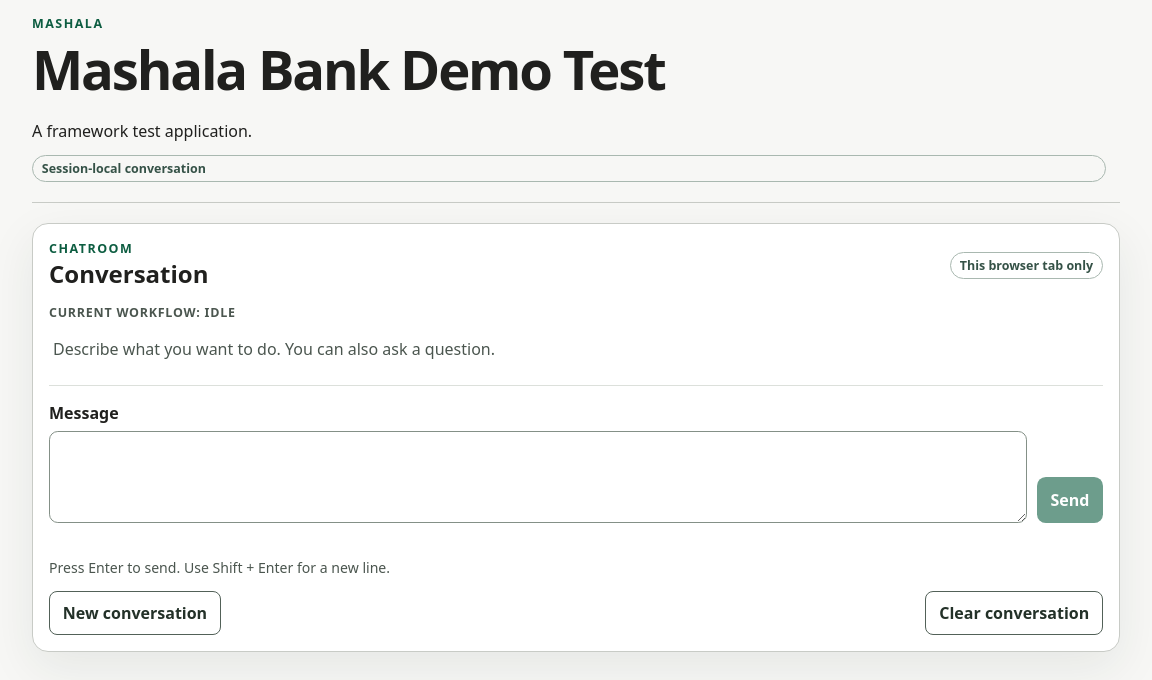
Test: MashalaChat page capability workflow › cancels review without authorizing a write
In the text box labelled "Message": x=538, y=477 [49,431,1026,523], type "transfer to Sam"
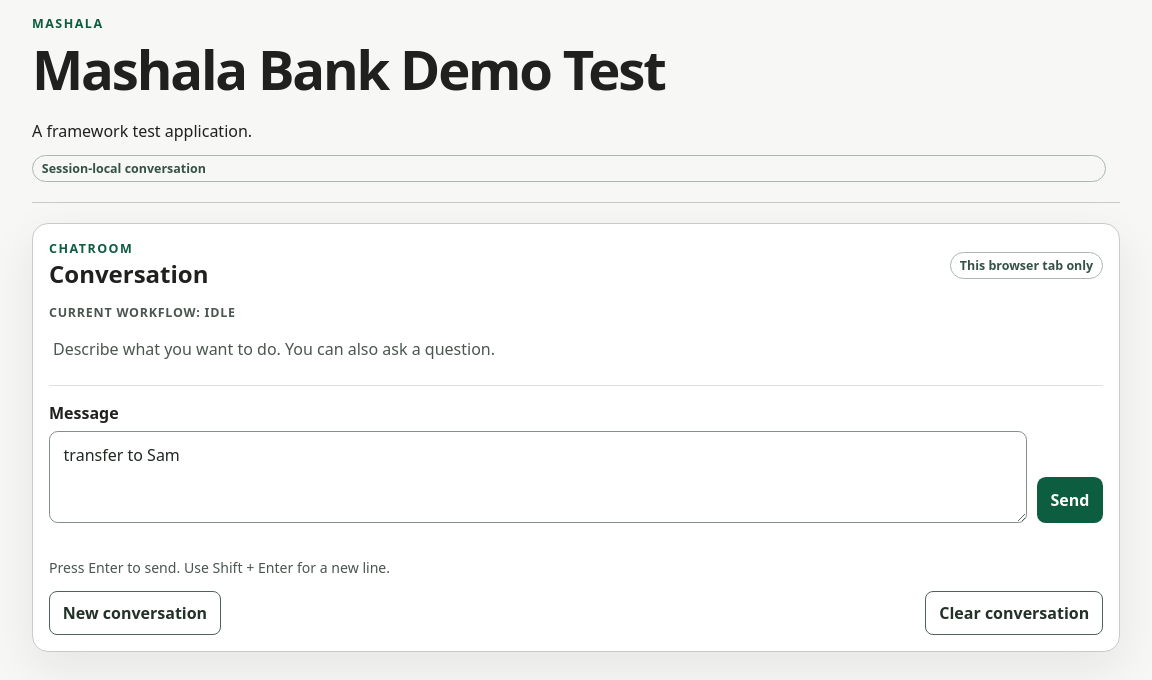
Click the button "Send": x=1070, y=500 [1037,477,1103,523]
(page scrolled)
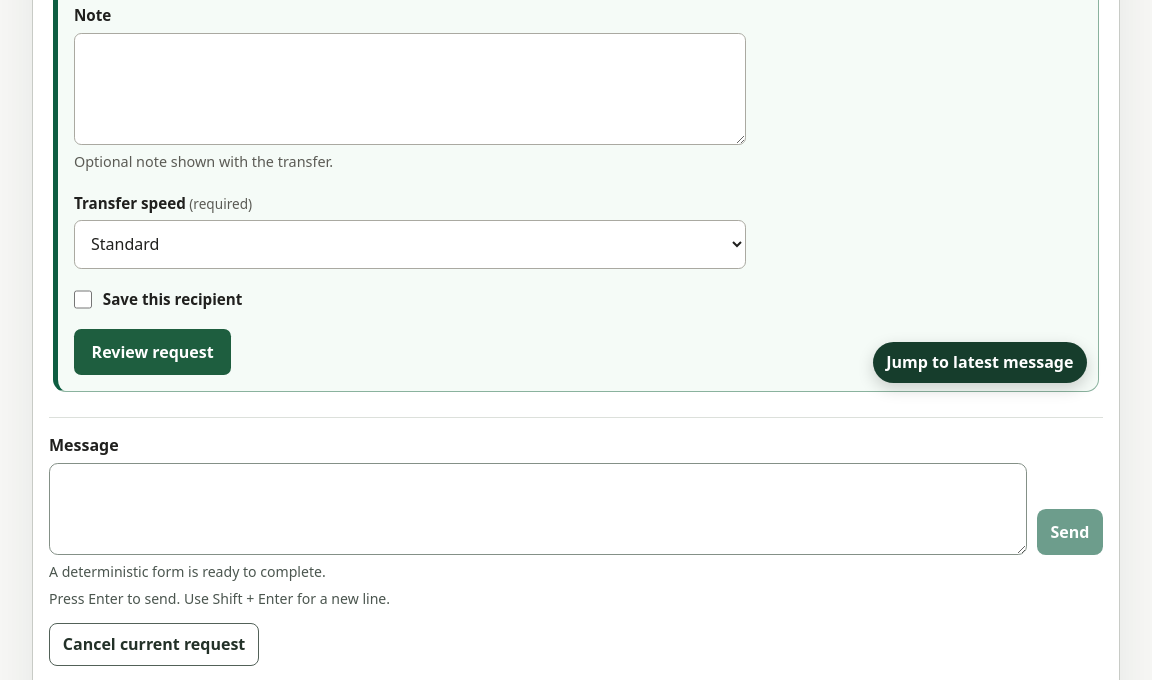
Click the button "Review request": x=153, y=352 [74,329,231,375]
(page scrolled)
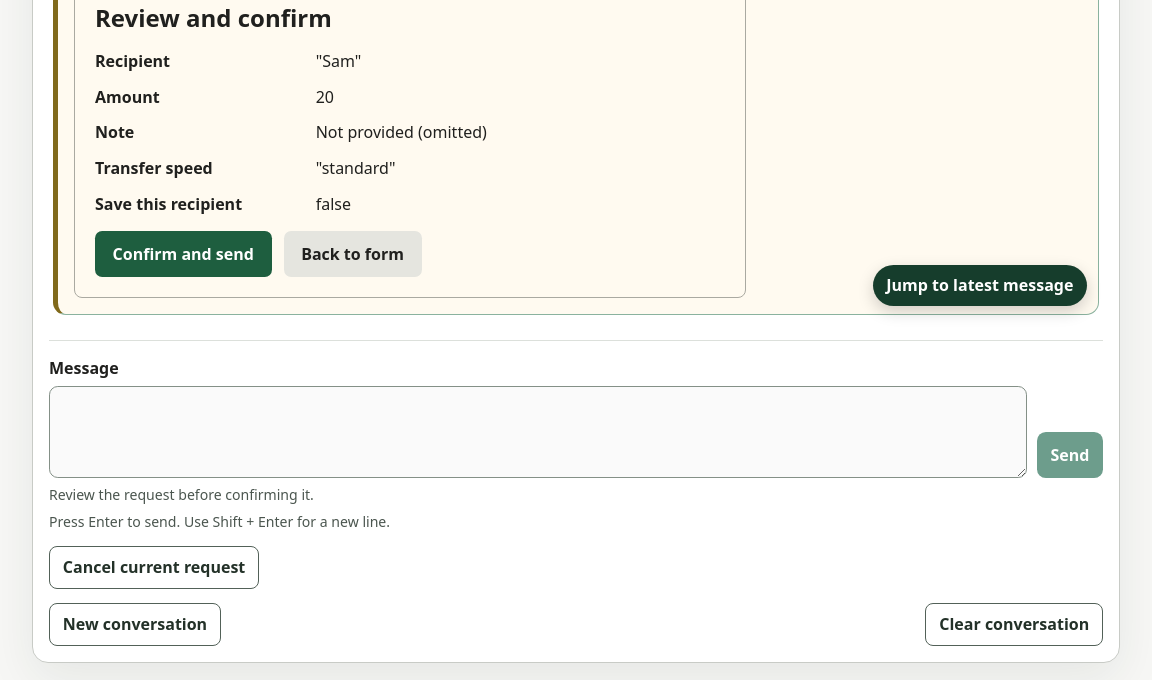
Click the button "Cancel current request": x=154, y=567 [49,546,259,589]
(page scrolled)
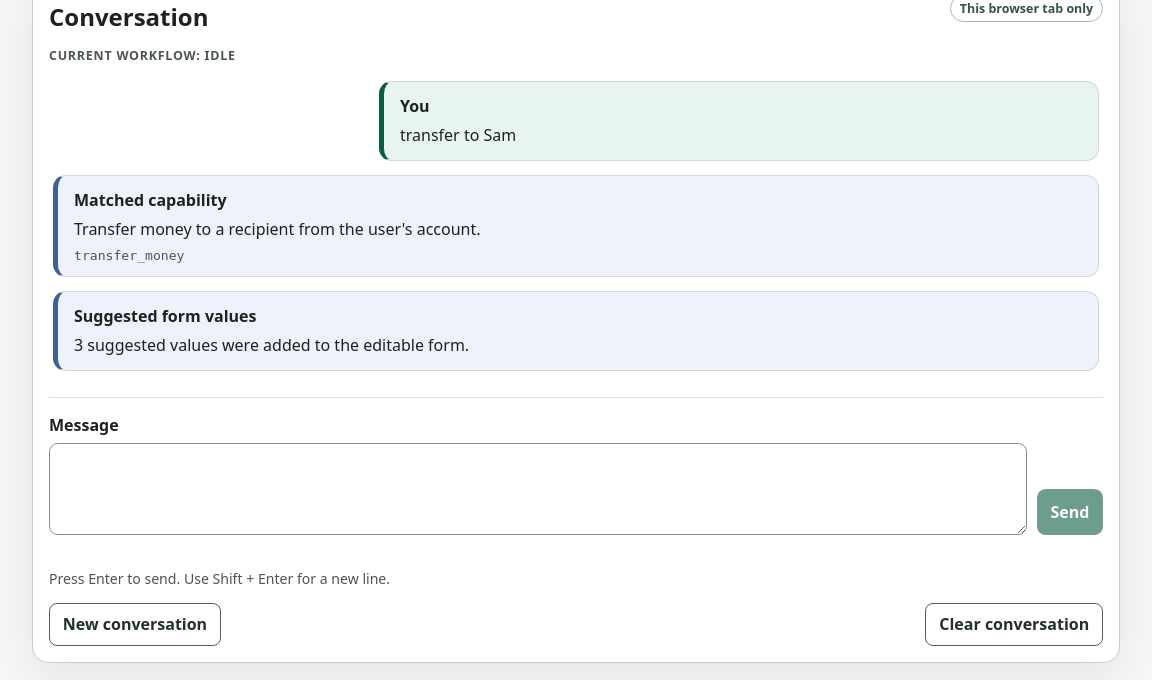
Check: the text with test id "workflow-state" shows "IDLE", box [205,47,236,64]
Check: the button "Confirm and send" is gone
